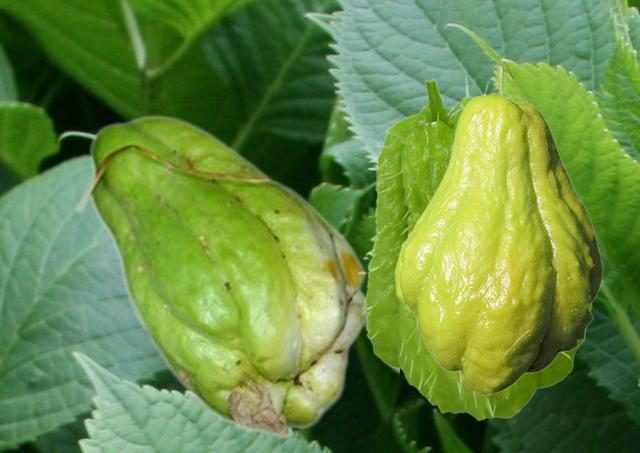sayote: (74, 114, 398, 438), (357, 74, 594, 420), (394, 61, 602, 394)
